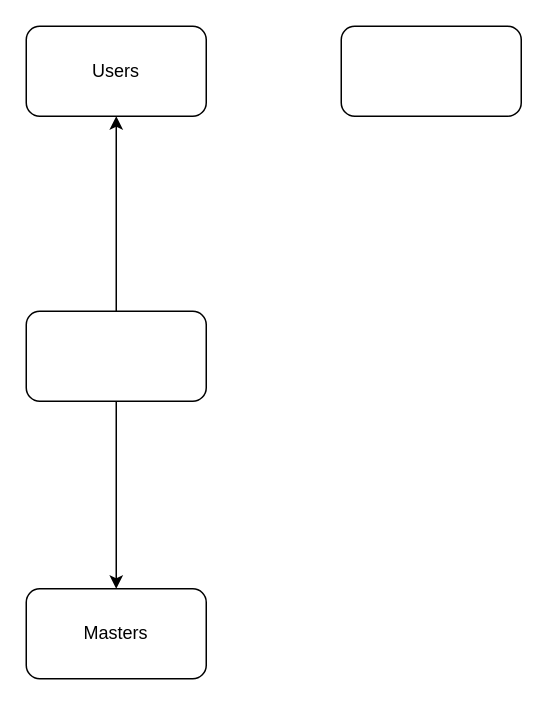
The diagram is 548 pixels wide and 705 high, and some of its shapes have lost their labels. The shapes that lost their labels are listed below. From the top down, each one's centre as x and y in pixels, then its label:
At point (430, 70): "Admins".
At point (115, 355): "Orders".
